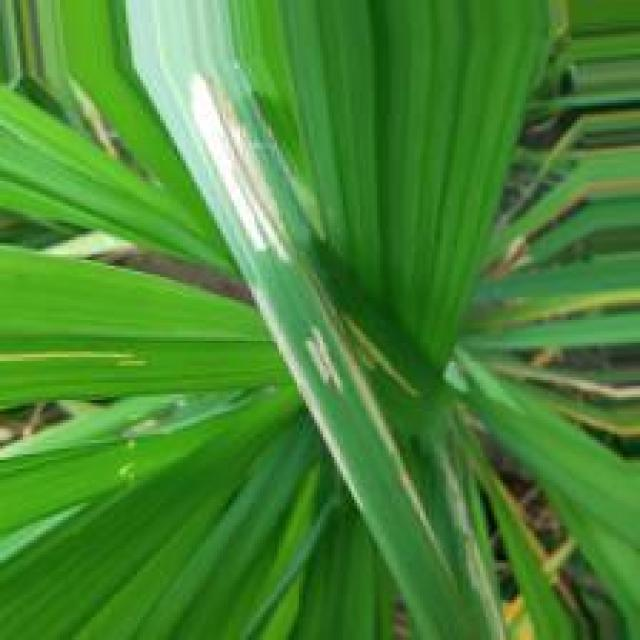Rice_Hispa: (317, 314, 439, 558), (248, 285, 356, 501), (195, 70, 288, 259), (294, 324, 341, 389)
